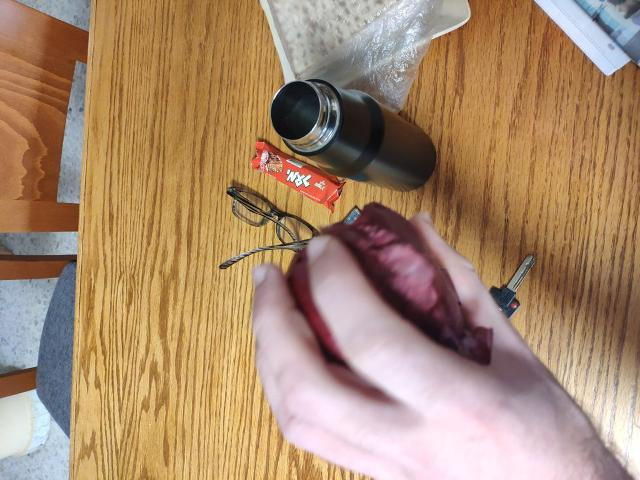onion: (279, 217, 442, 364)
